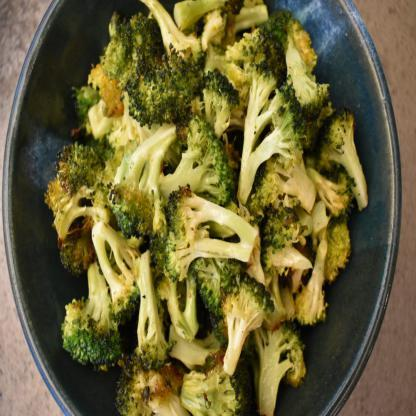broccoli: (41, 0, 371, 415)
